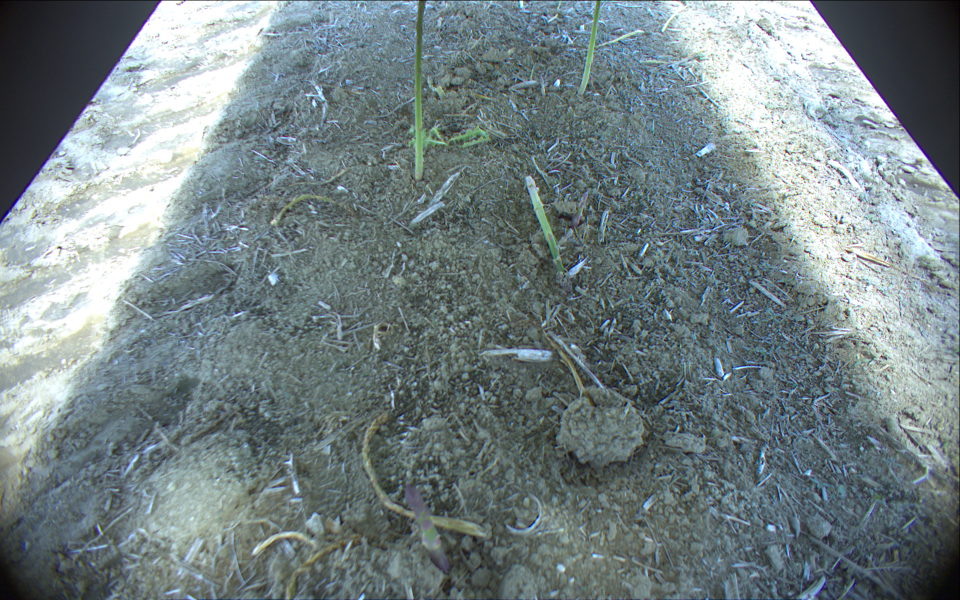aspa: (362, 412, 487, 536), (525, 177, 567, 274), (404, 485, 446, 564), (271, 194, 353, 227), (412, 1, 427, 179), (578, 1, 602, 95), (584, 30, 642, 51), (641, 49, 714, 63), (661, 3, 693, 32), (569, 190, 592, 230)
